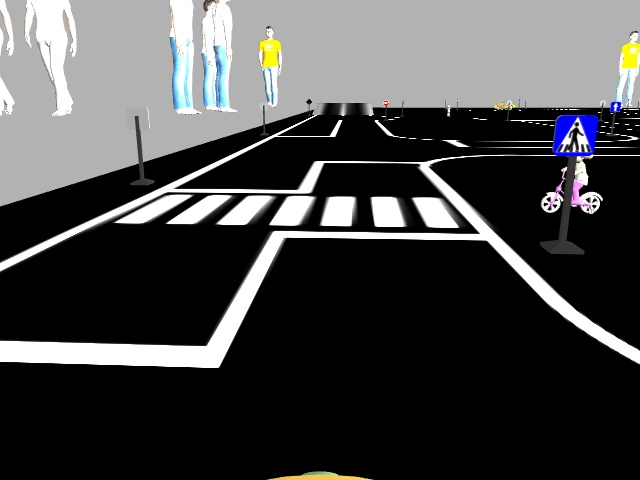Crosswalk: (555, 114, 596, 156)
Pedestrian: (540, 155, 605, 216)
